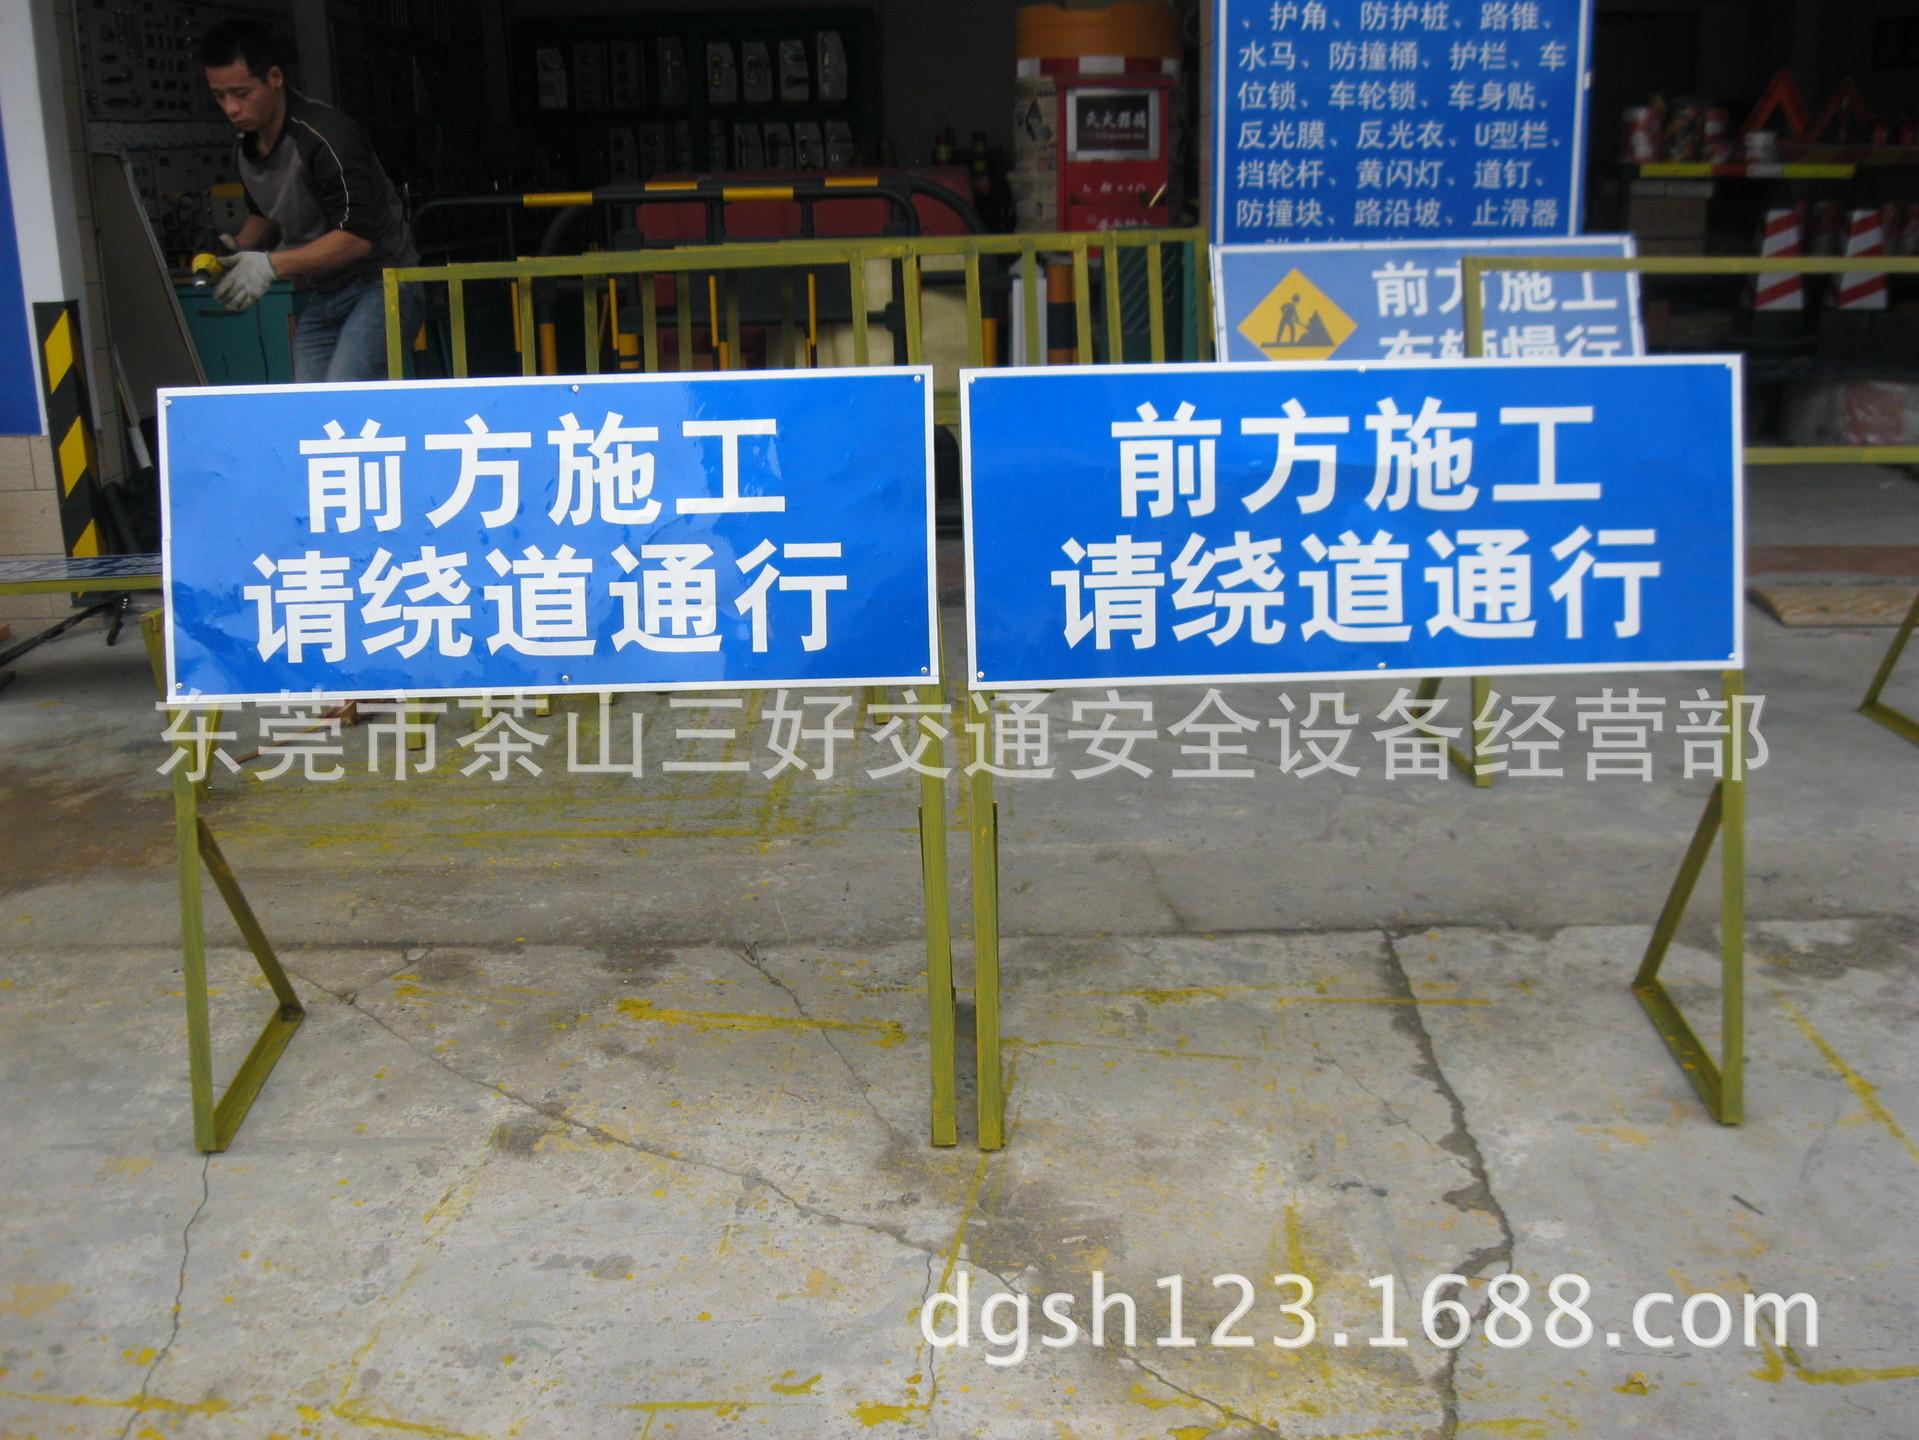sign: (148, 384, 960, 1142), (965, 368, 1759, 1125)
